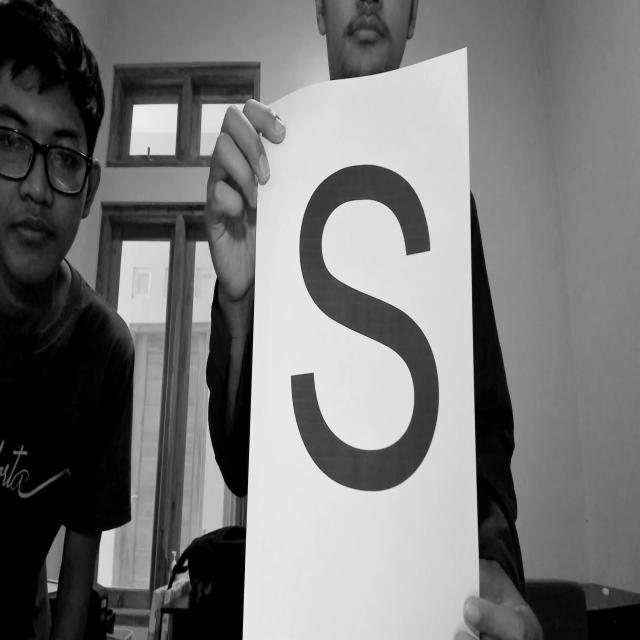s: (278, 157, 456, 546)
